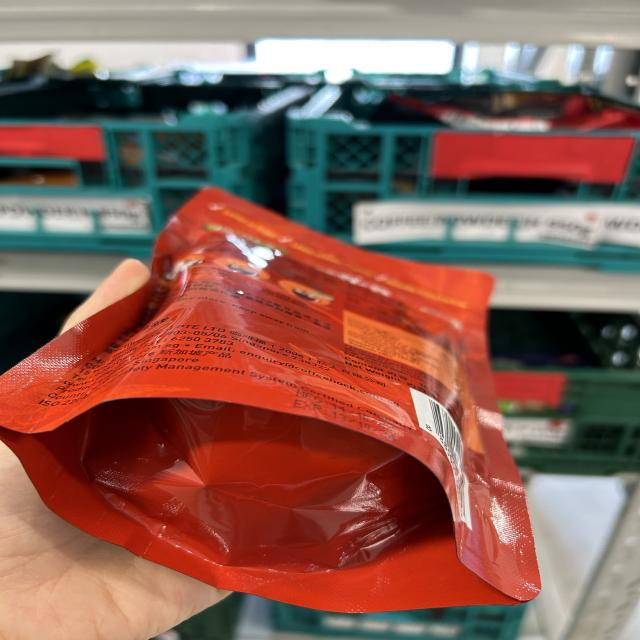object_name: (55, 205, 529, 589)
